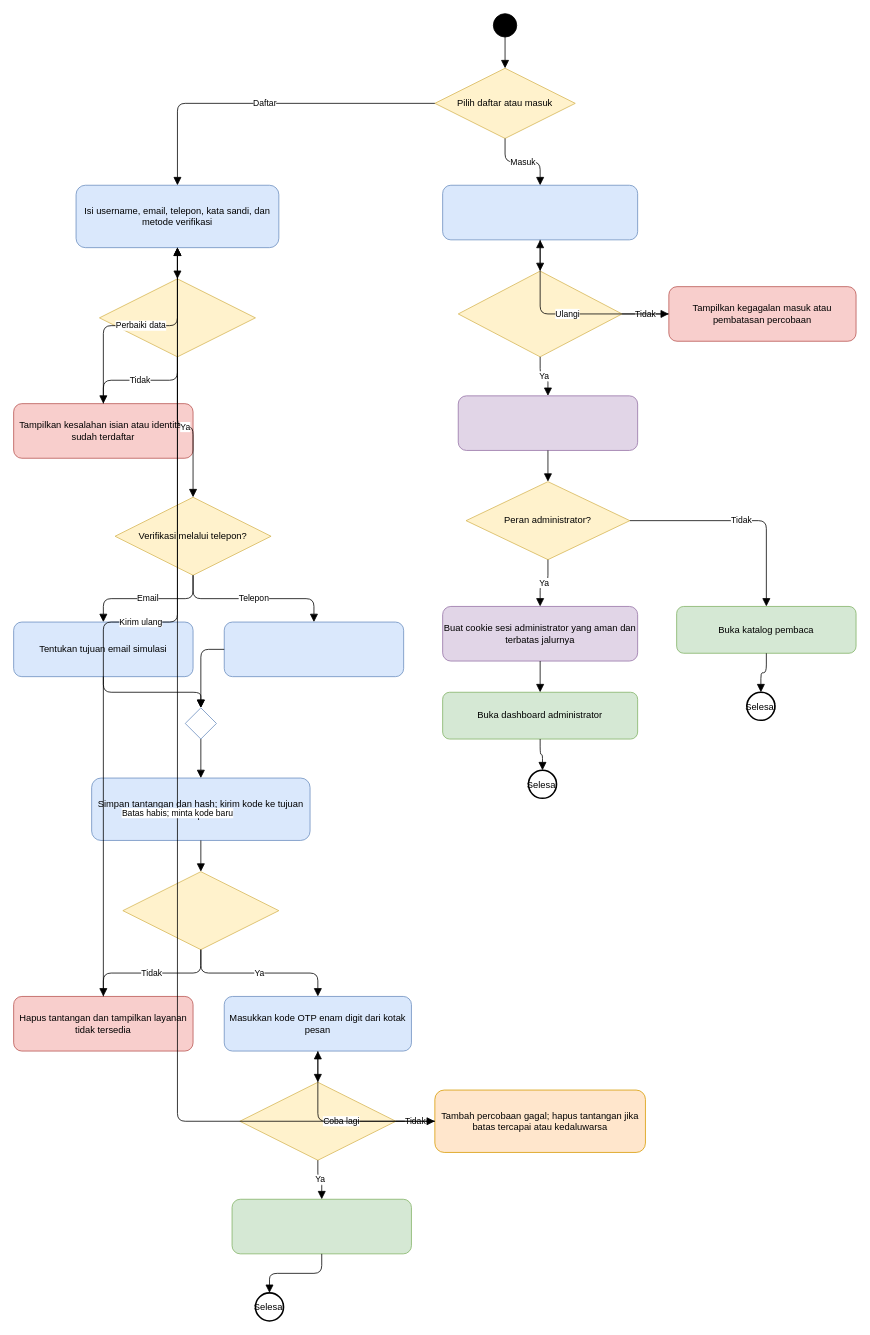
This 870x1335 diagram has some shape labels left out. The shapes that lost their labels are listed below. From the top down, each one's box as (x1, y1, x2, y2) in pixels, then its label:
(442, 184, 638, 240): Masukkan username atau email dan kata sandi
(99, 278, 255, 357): Data pendaftaran valid?
(457, 270, 622, 357): Identitas dan kata sandi valid serta akun tidak dibekukan?
(457, 395, 638, 450): Buat token akses dan ambil peran terbaru dari basis data
(223, 621, 404, 677): Tentukan tujuan SMS simulasi lokal
(122, 871, 279, 950): Layanan OTP tersedia?
(239, 1081, 396, 1160): Kode benar dan belum kedaluwarsa?
(231, 1198, 411, 1254): Buat akun dan tandai kontak yang dipilih sebagai terverifikasi
